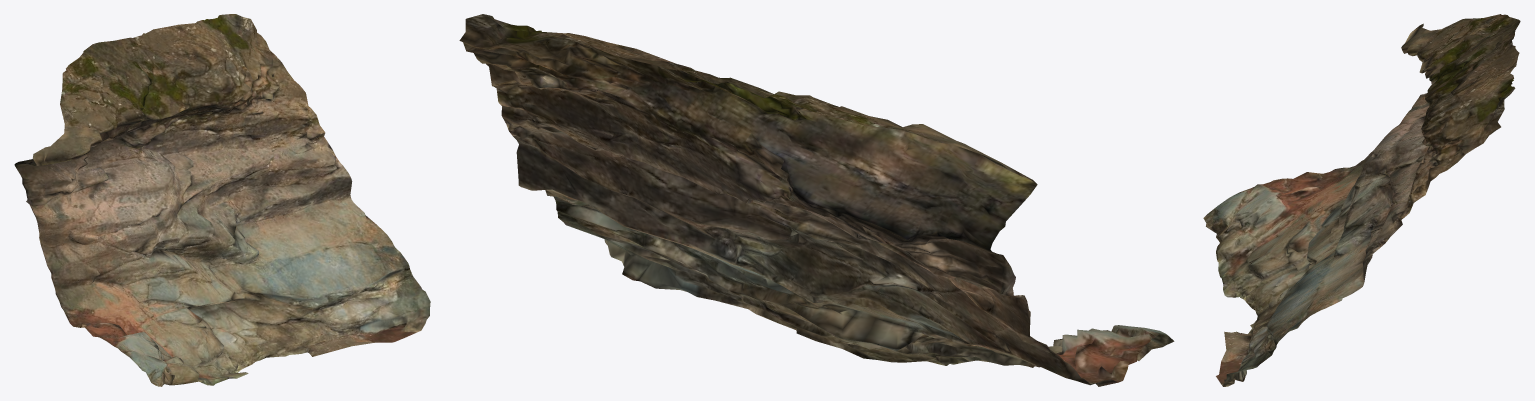
File: rock_face_01.glb
3 renders of one model, left to right at view 1: azimuth 30°, elevation 25°; view 2: azimuth 150°, elevation 25°; view 3: azimuth 270°, elevation 25°, orthographic. The views are drawn at different scales.
Visible parts, largest first — view 1: rock_face_01; view 2: rock_face_01; view 3: rock_face_01.
Boxes of the visible parts, x1,y1,x2,y2 form: rock_face_01: [14, 14, 430, 386]; rock_face_01: [459, 14, 1174, 386]; rock_face_01: [1203, 14, 1520, 386].
Size of the model in its own units: 4.95 by 3.56 by 3.83.
1 material, 1 textured.
